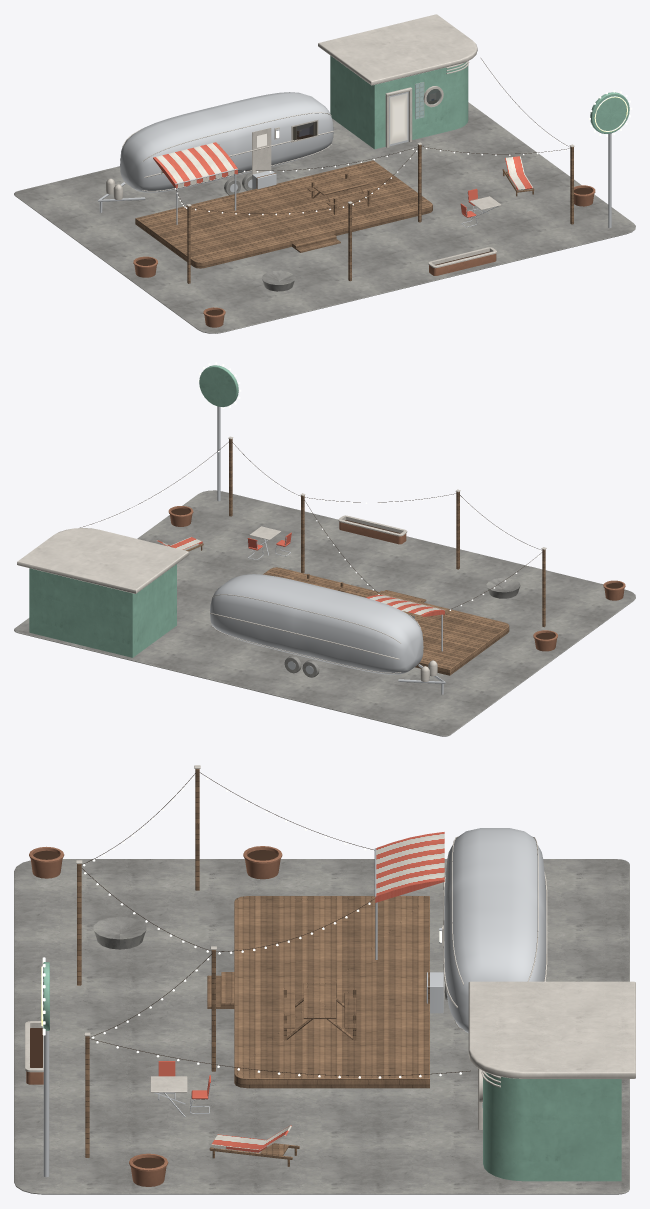
The model's file is plot_trailer.gltf.
3 views of the same model, one above another, from view 1: azimuth 30°, elevation 25°; view 2: azimuth 150°, elevation 25°; view 3: azimuth 270°, elevation 25° (orthographic). The views are drawn at different scales.
Visible parts, largest first — view 1: plot_trailer_mesh; view 2: plot_trailer_mesh; view 3: plot_trailer_mesh.
Boxes of the visible parts, x1,y1,x2,y2 form: plot_trailer_mesh: (14,14,635,333); plot_trailer_mesh: (14,362,635,736); plot_trailer_mesh: (14,765,635,1194).
Bounding box in the file's own units: 19.4 × 5.86 × 15.25.
13 materials, 8 textured.
